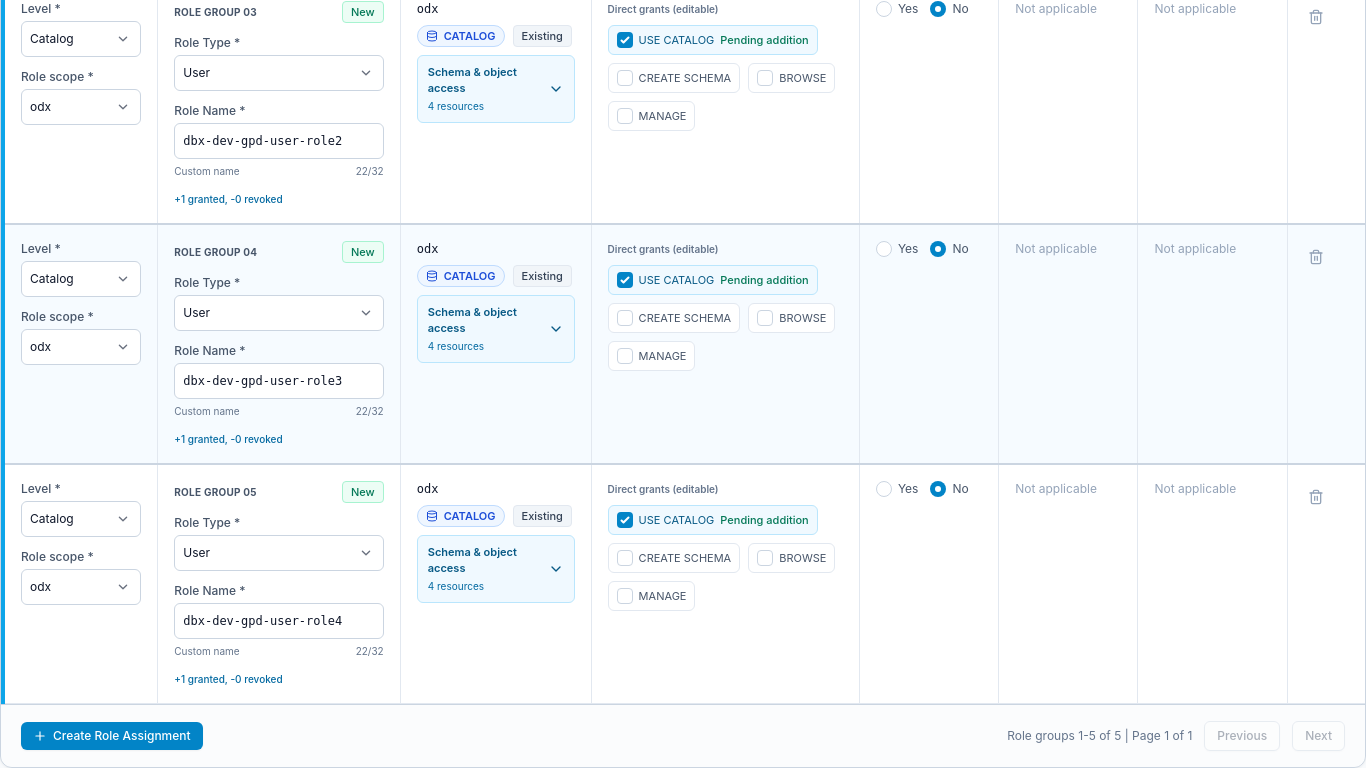
role assignment matrix › opens the page of an added role and returns to a valid page when its last role is removed
This screenshot has width=1366, height=768.
(page scrolled)
Click the button "Create Role Assignment": (112, 736) [21,722,203,750]
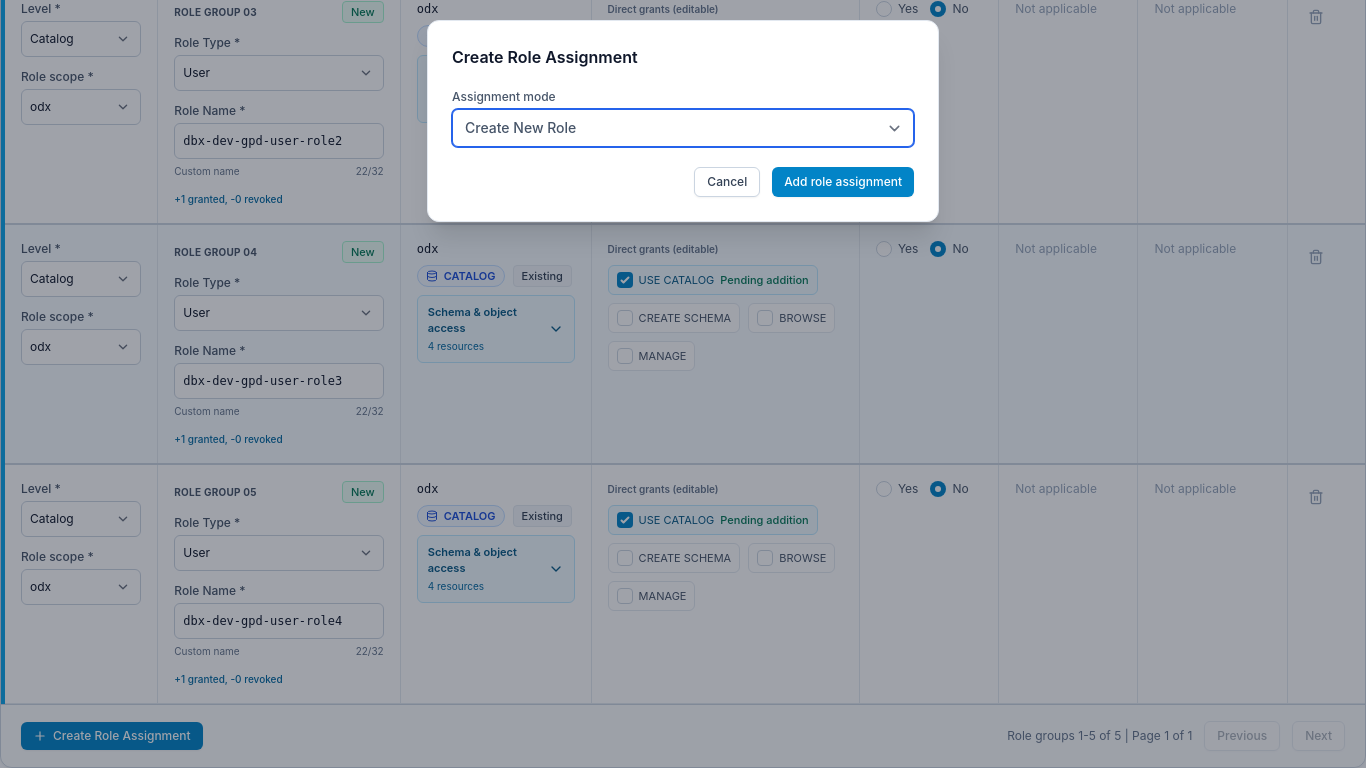
Click the button "Add role assignment": (843, 182) [772,167,914,197]
(page scrolled)
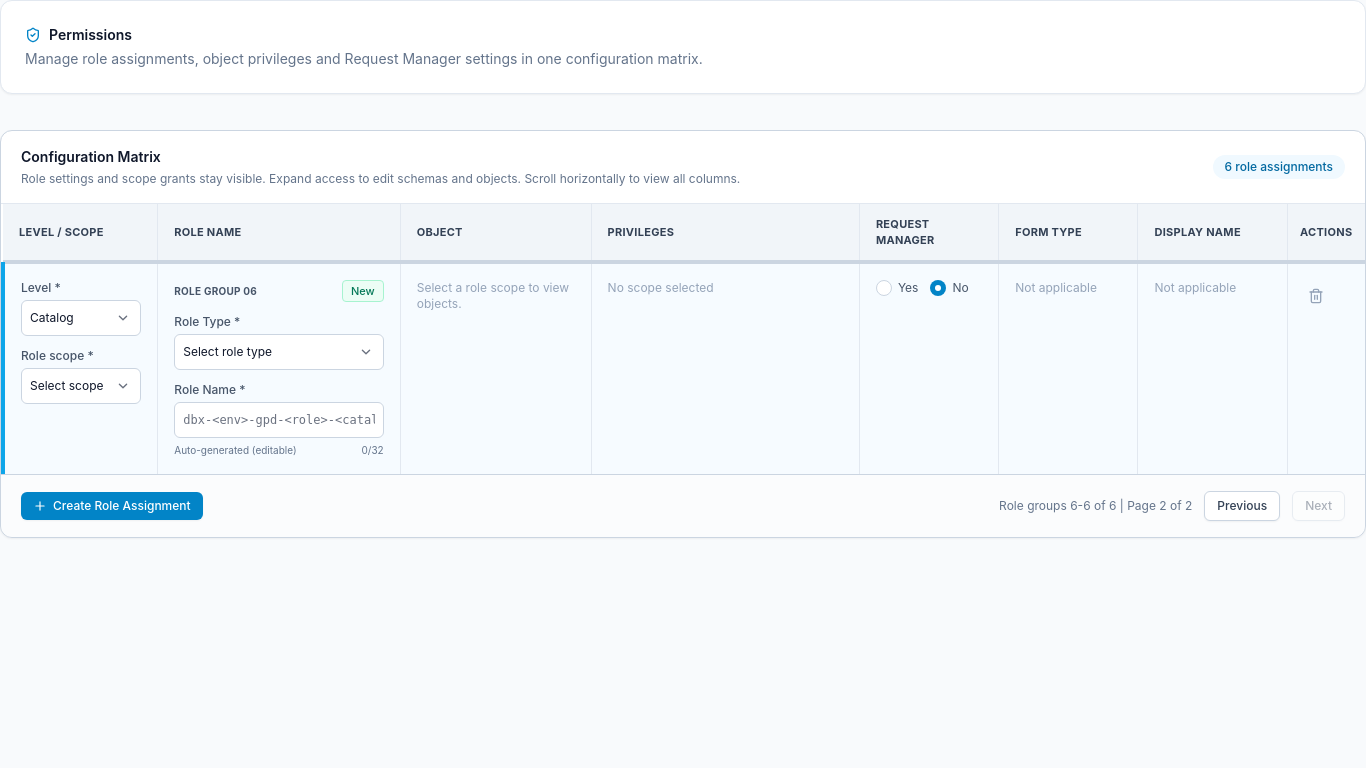
Check: the text "Role groups 6-6 of 6 | Page 2 of 2" is shown, box [999,498,1192,514]
Check: the field labelled "Role Name *" is shown, box [174,402,384,438]
Click the button named "Remove": (1316, 296) [1300,280,1332,312]
(page scrolled)
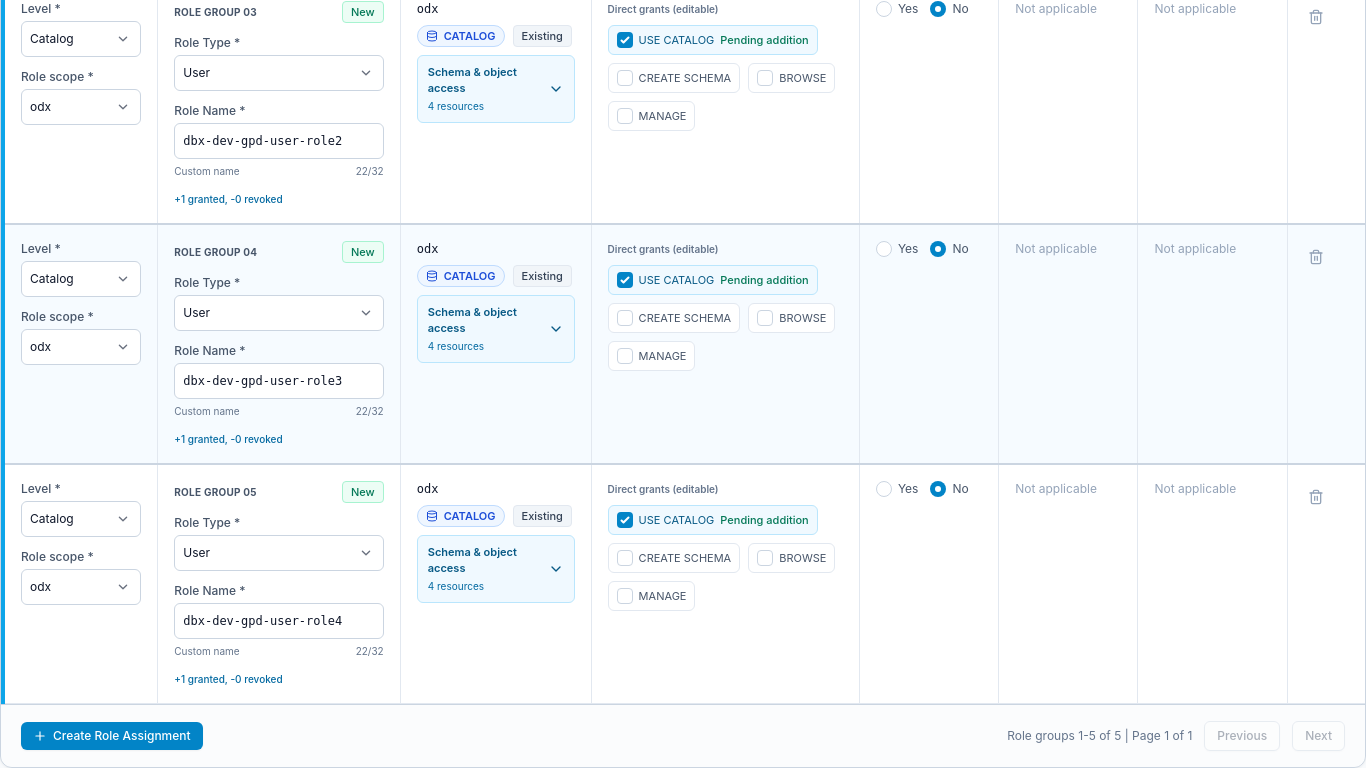
Check: the button with aria-label "Next role groups page" is disabled, box [1292,721,1345,751]
Check: the text "Role groups 1-5 of 5 | Page 1 of 1" is shown, box [1007,728,1192,744]
